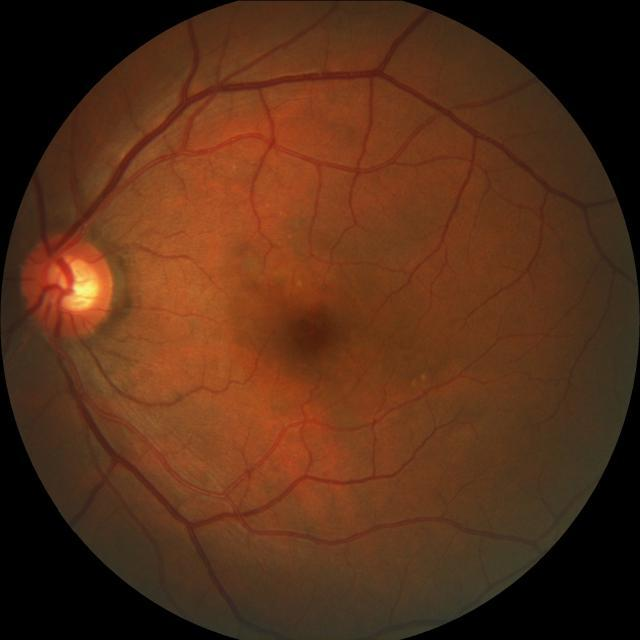OC: (45, 256, 99, 311)
OD: (22, 230, 116, 338)
